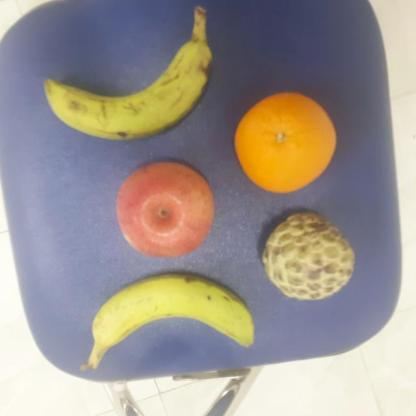annona: (259, 212, 357, 302)
apple: (114, 160, 215, 259)
banana: (42, 41, 216, 146), (86, 272, 257, 354)
orange: (231, 92, 338, 195)
